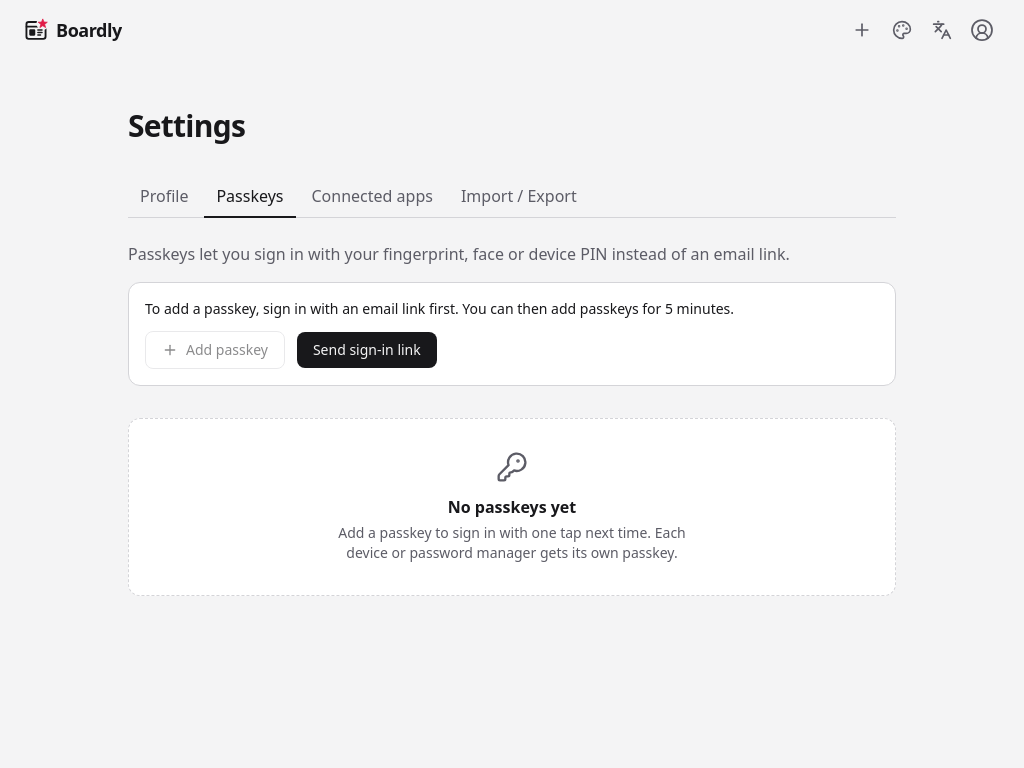
it: enrollment window › sends a sign-in link to the user's own address
The width and height of the screenshot is (1024, 768).
Expected: the button "Add passkey" is disabled, left=145, top=331, right=285, bottom=369
Click the button "Send sign-in link" at (367, 350), box left=297, top=332, right=437, bottom=368
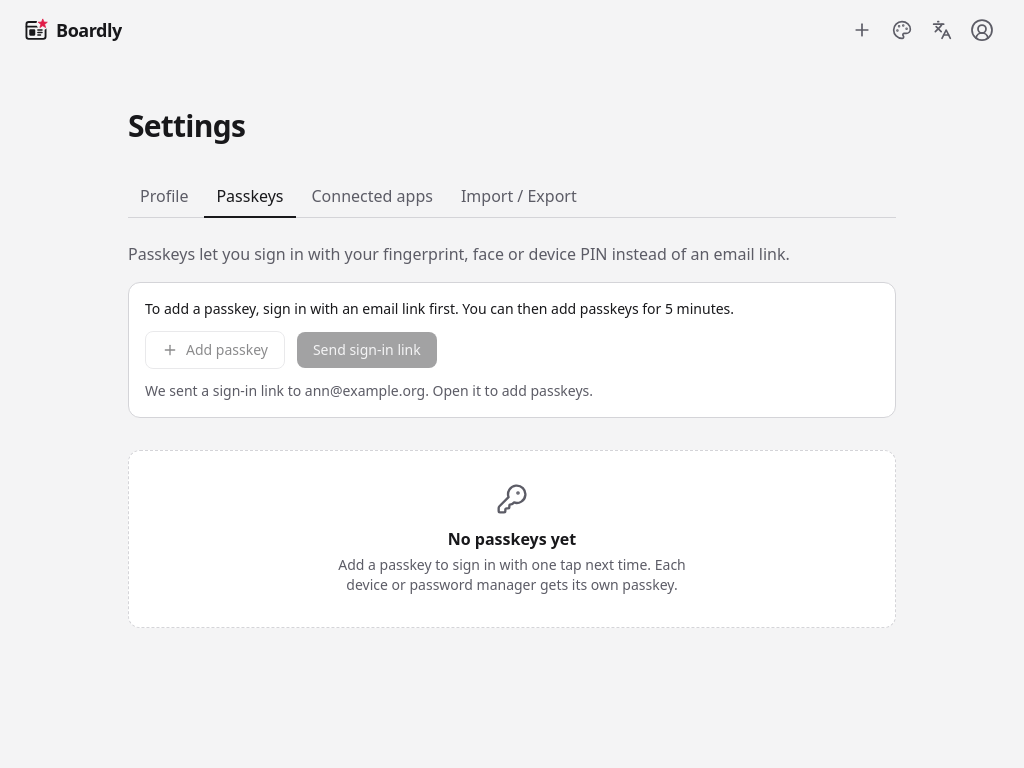
Expected: the text "We sent a sign-in link to ann@example.org. Open it to add passkeys." is shown, left=145, top=381, right=593, bottom=400
